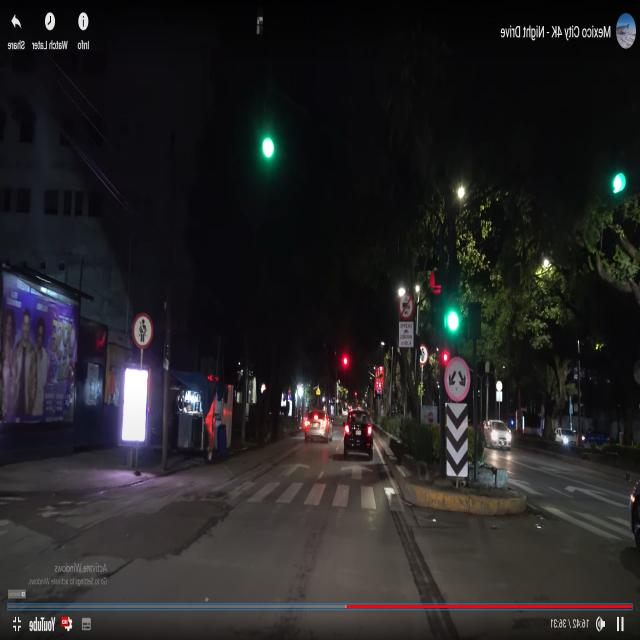headlights: (488, 425, 514, 447)
